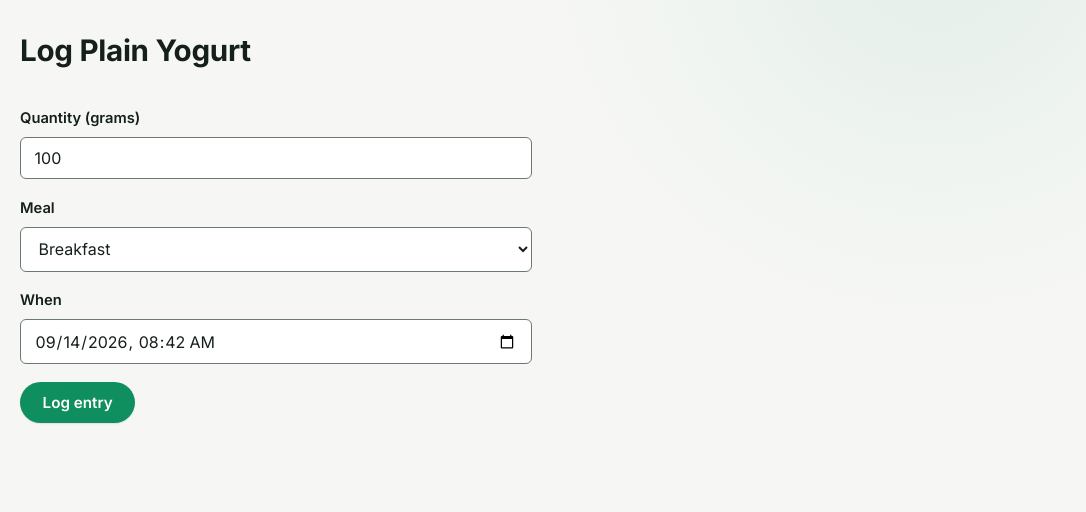
it: LogFoodEntryForm › surfaces a mocked 422 from diary-service inline
The image size is (1086, 512).
Click the button "Log entry": (78, 402) left=20, top=382, right=135, bottom=423
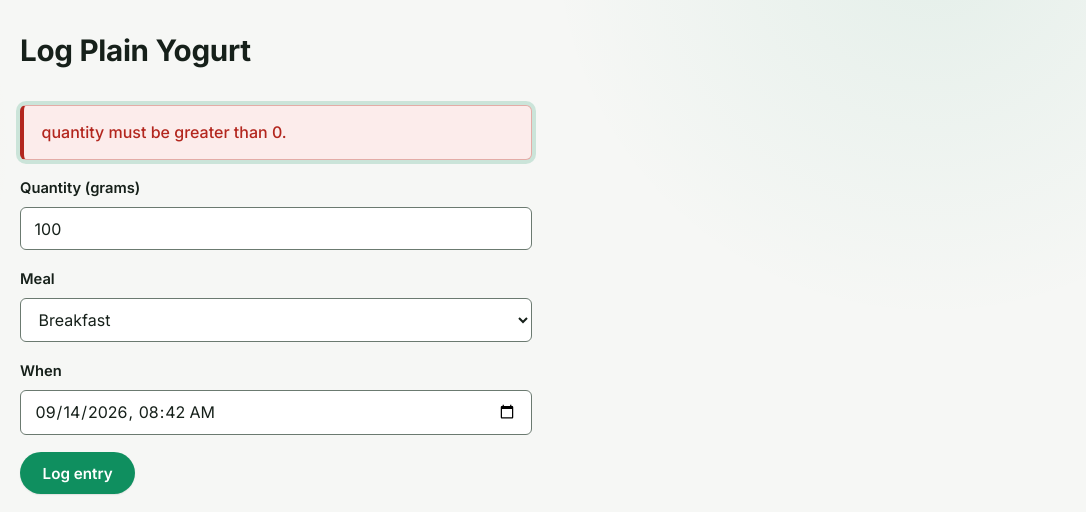
Now the message shows "quantity must be greater than 0", box left=42, top=122, right=287, bottom=142
